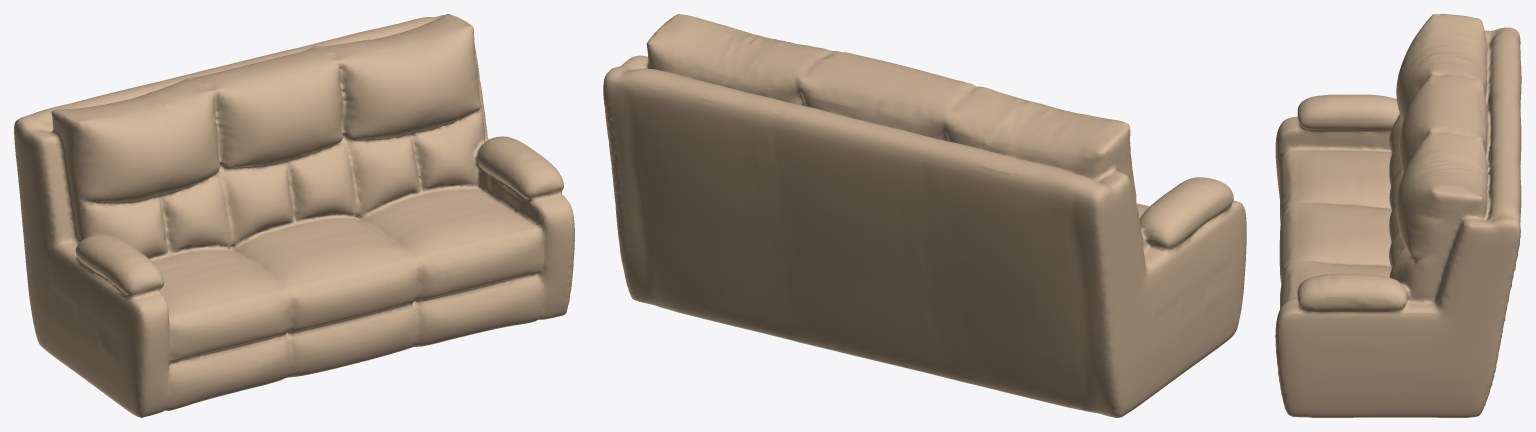
Rendered from sofa-ar.glb.
3 renders of one model, left to right at view 1: azimuth 30°, elevation 25°; view 2: azimuth 150°, elevation 25°; view 3: azimuth 270°, elevation 25°, orthographic. The views are drawn at different scales.
Visible parts, largest first — view 1: Sofa Recliner 3S Freya; view 2: Sofa Recliner 3S Freya; view 3: Sofa Recliner 3S Freya.
Part boxes in pixels (x1,y1,x2,y2): Sofa Recliner 3S Freya: (14, 14, 574, 417); Sofa Recliner 3S Freya: (603, 14, 1246, 417); Sofa Recliner 3S Freya: (1275, 14, 1521, 417).
Size of the model in its own units: 1.9 by 1 by 0.99.
